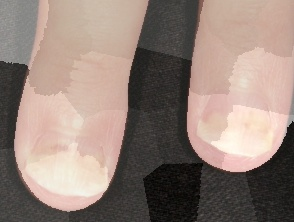Nail_psoriasis: (20, 131, 118, 205), (188, 93, 285, 167)
